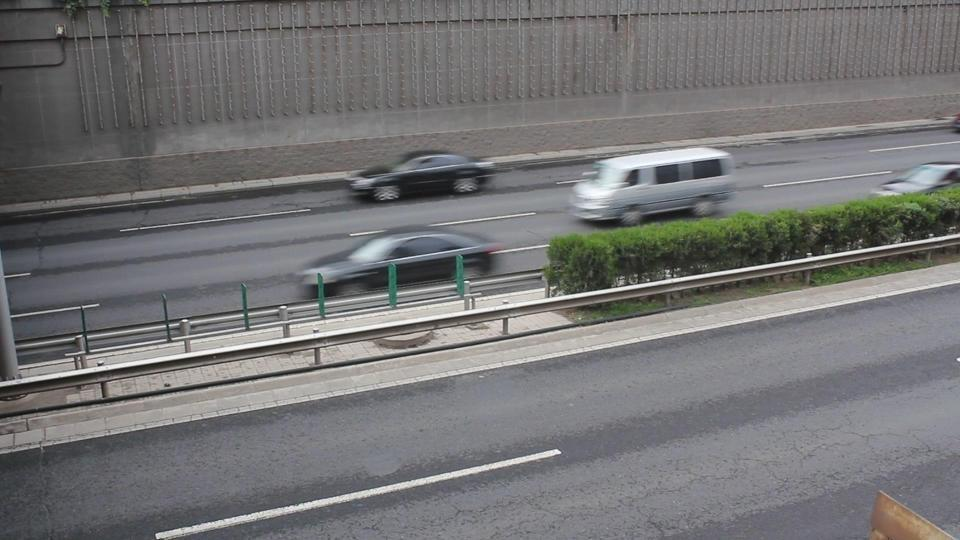car: (295, 227, 504, 296), (567, 144, 735, 228), (345, 152, 495, 203), (879, 163, 960, 195), (951, 110, 960, 134)
